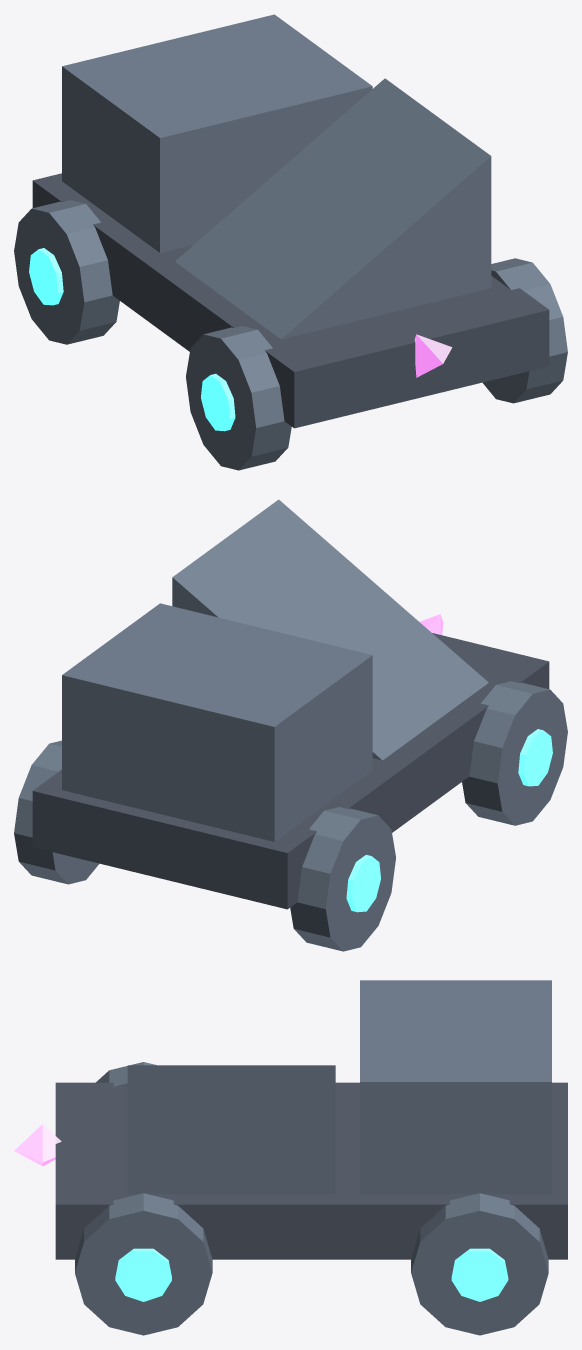
Rendered from AXM-VEHICLE-CHASSIS-001_LOD2.glb.
3 renders of one model, top to bottom at view 1: azimuth 30°, elevation 25°; view 2: azimuth 150°, elevation 25°; view 3: azimuth 270°, elevation 25°, orthographic. The views are drawn at different scales.
Visible parts, largest first — view 1: cabin, cargo, chassis, wheel__g01, wheel__g00, wheel__g02, hub__g01, hub__g00, front_core; view 2: cargo, chassis, cabin, wheel__g00, wheel__g01, wheel__g03, hub__g00, hub__g01; view 3: cargo, chassis, cabin, wheel__g02, wheel__g03, hub__g03, hub__g02, front_core, wheel__g00.
Part boxes in pixels (x1,y1,x2,y2): cabin: (175,78,491,339); cargo: (62,14,372,252); chassis: (32,173,549,428); wheel__g01: (14,200,119,344); wheel__g00: (186,326,291,470); wheel__g02: (482,258,567,403); hub__g01: (29,248,63,305); hub__g00: (201,373,235,431); front_core: (414,334,452,377); cargo: (62,603,372,841); chassis: (32,633,549,909); cabin: (172,499,488,760); wheel__g00: (462,681,567,825); wheel__g01: (290,807,395,951); wheel__g03: (14,740,98,884); hub__g00: (518,729,552,786); hub__g01: (346,855,380,912); cargo: (360,980,551,1194); chassis: (55,1082,567,1259); cabin: (127,1065,335,1194); wheel__g02: (75,1193,212,1335); wheel__g03: (411,1193,548,1335); hub__g03: (451,1248,508,1301); hub__g02: (115,1248,171,1301); front_core: (14,1124,61,1166); wheel__g00: (96,1062,156,1086).
Bounding box in the file's own units: 2.28 × 1.7 × 3.46.
